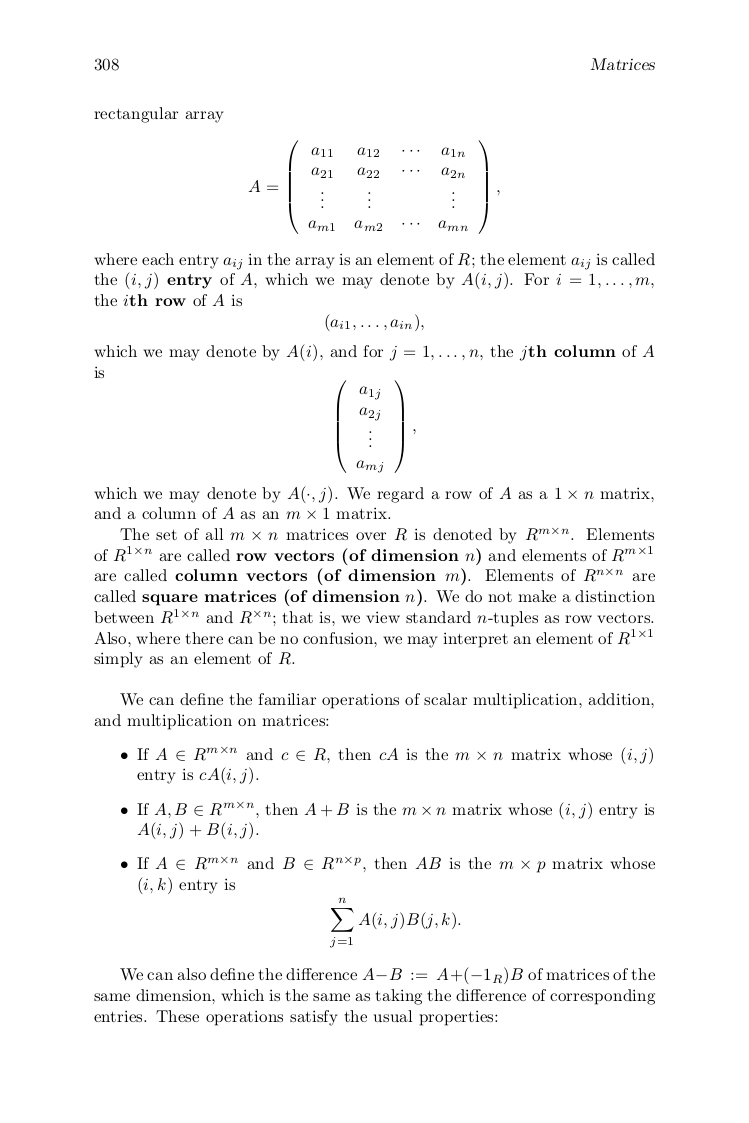formula: (248, 139, 499, 234), (337, 379, 415, 473), (330, 897, 460, 947), (137, 822, 258, 839), (325, 313, 423, 332)
